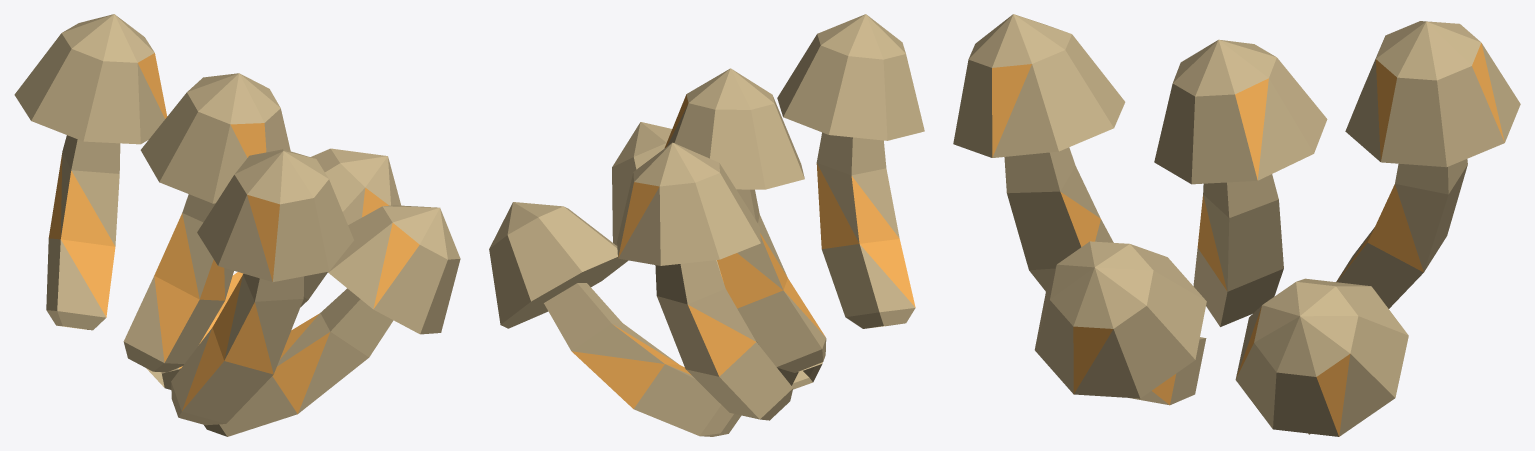
Rendered from shroomHoney.glb.
3 views of the same model, side by side, from view 1: azimuth 30°, elevation 25°; view 2: azimuth 150°, elevation 25°; view 3: azimuth 270°, elevation 25° (orthographic). The views are drawn at different scales.
Visible parts, largest first — view 1: shroomHoney; view 2: shroomHoney; view 3: shroomHoney.
Boxes of the visible parts, x1=… form: shroomHoney: x1=14, y1=14, x2=460, y2=436; shroomHoney: x1=489, y1=14, x2=924, y2=436; shroomHoney: x1=953, y1=14, x2=1520, y2=436.
Size of the model in its own units: 0.4883 by 0.5 by 0.6637.
